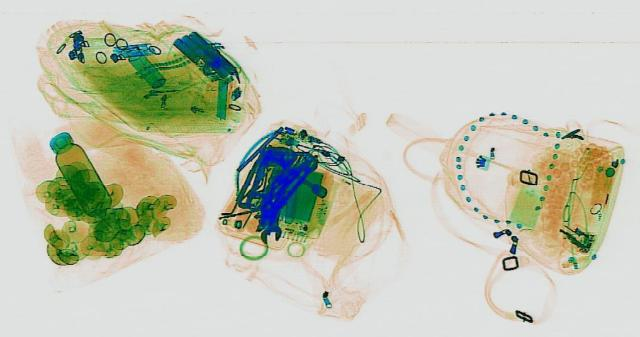Wrench: (275, 158, 321, 201), (259, 193, 281, 243)
